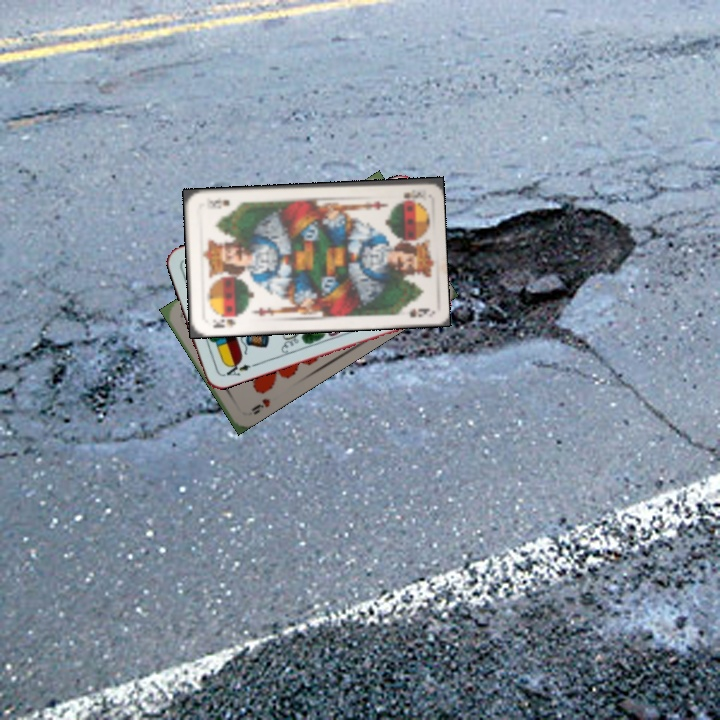EA: (219, 357, 258, 379)
H9: (247, 394, 273, 417)
SK: (209, 311, 240, 331), (399, 186, 425, 202)
